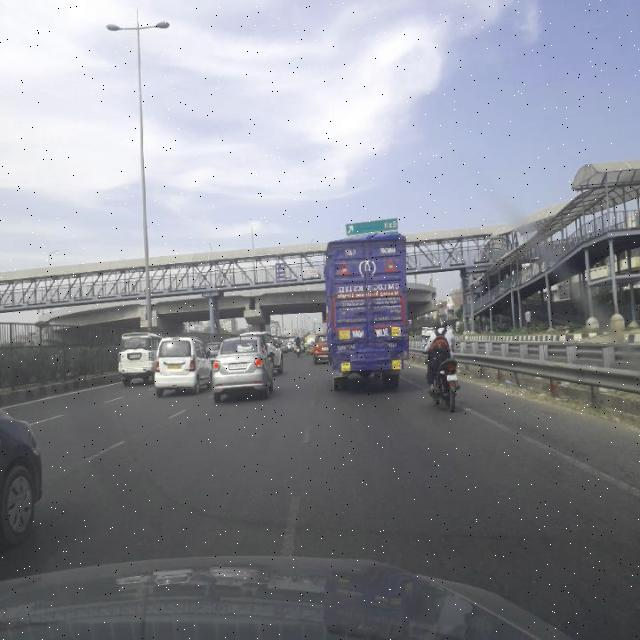D44: (276, 476, 306, 550)
